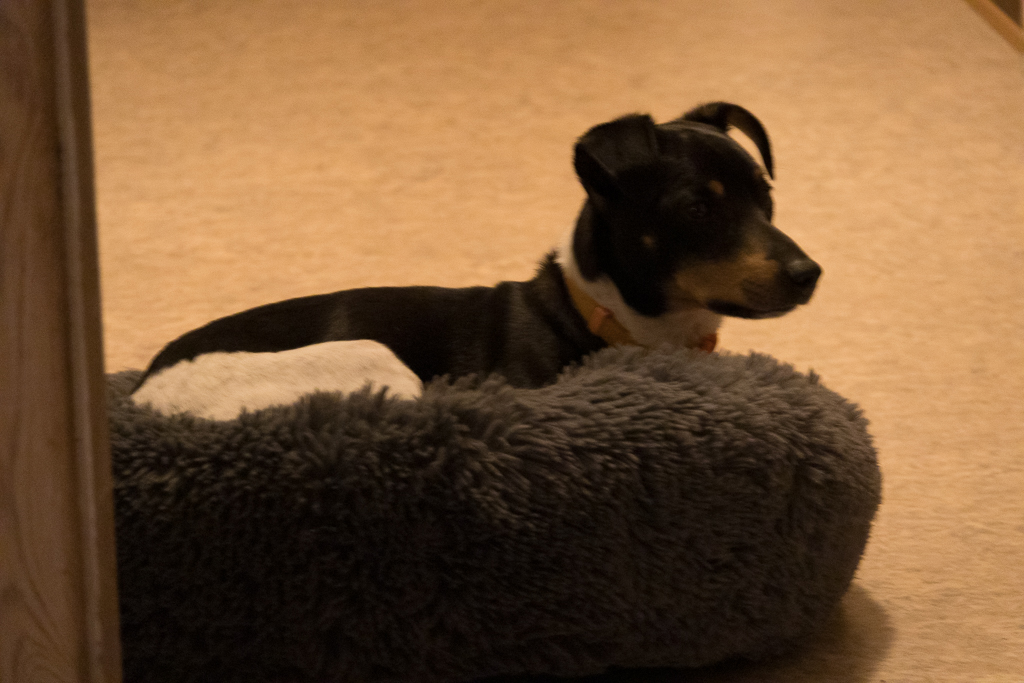Dog: (106, 95, 835, 433)
